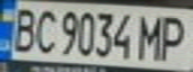0: (75, 8, 96, 57)
3: (93, 9, 118, 60)
4: (112, 10, 139, 60)
9: (54, 7, 81, 56)
B: (6, 3, 42, 53)
C: (30, 6, 60, 55)
M: (133, 11, 169, 61)
P: (154, 11, 190, 61)
